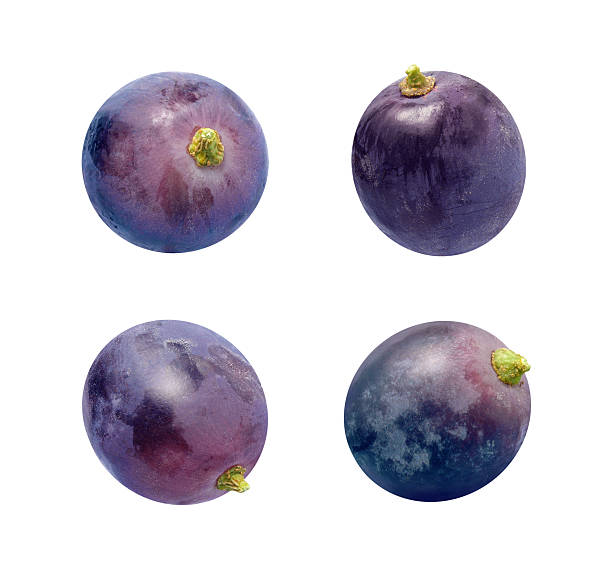grapes: (81, 58, 286, 268)
